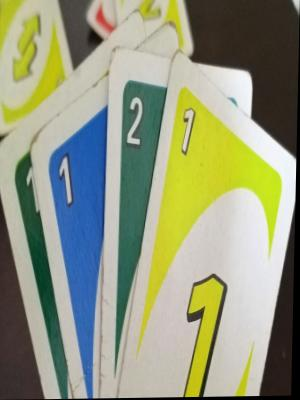blue: (51, 144, 86, 232)
green: (119, 80, 149, 182)
num_1: (170, 79, 209, 198)
reverse: (8, 7, 53, 89)
